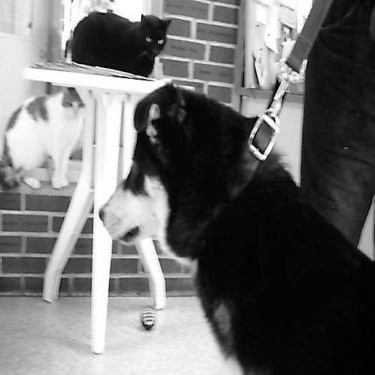cat: (1, 87, 88, 192), (64, 3, 175, 78)
dog: (95, 77, 372, 374)
